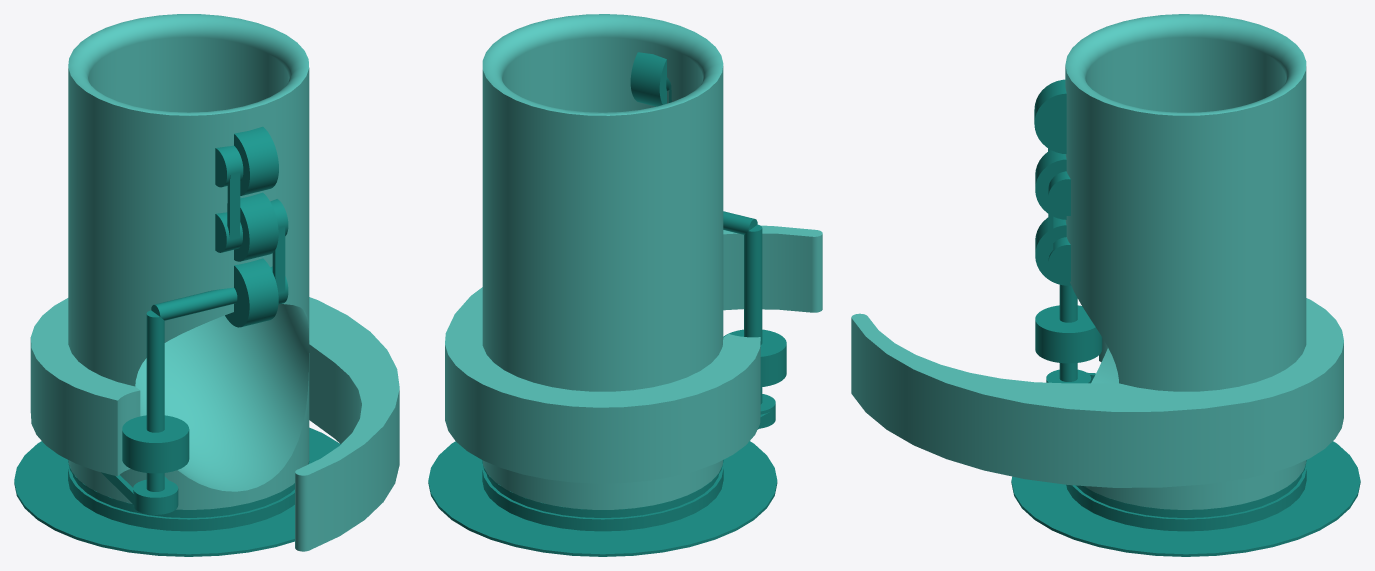
3 renders of one model, left to right at view 1: azimuth 30°, elevation 25°; view 2: azimuth 150°, elevation 25°; view 3: azimuth 270°, elevation 25°, orthographic.
Visible parts, largest first — view 1: BLOCK CAD: Serializer, Rotor, BLOCK CAD: Serializer, Powertrain; view 2: BLOCK CAD: Serializer, Rotor, BLOCK CAD: Serializer, Powertrain; view 3: BLOCK CAD: Serializer, Rotor, BLOCK CAD: Serializer, Powertrain.
Part boxes in pixels (left/top/right/bottom): BLOCK CAD: Serializer, Rotor: left=30, top=14, right=399, bottom=551; BLOCK CAD: Serializer, Powertrain: left=14, top=126, right=340, bottom=556; BLOCK CAD: Serializer, Rotor: left=445, top=14, right=822, bottom=509; BLOCK CAD: Serializer, Powertrain: left=428, top=52, right=786, bottom=556; BLOCK CAD: Serializer, Rotor: left=851, top=14, right=1343, bottom=509; BLOCK CAD: Serializer, Powertrain: left=1011, top=79, right=1360, bottom=556.
Size of the model in its own units: 0.2646 by 0.35 by 0.3859.
